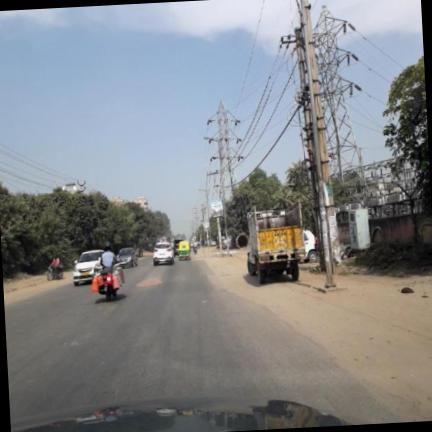Road: (5, 257, 396, 422)
